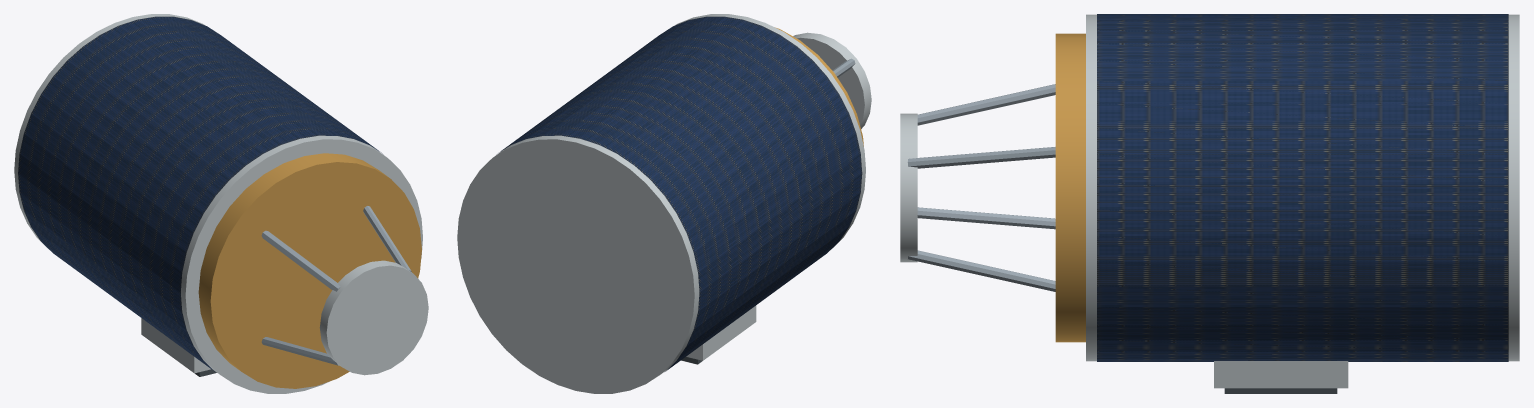
Rendered from meteosat.glb.
3 views of the same model, side by side, from view 1: azimuth 30°, elevation 25°; view 2: azimuth 150°, elevation 25°; view 3: azimuth 270°, elevation 25° (orthographic). The views are drawn at different scales.
Visible parts, largest first — view 1: Body-mounted solar cells, Despun equipment deck, Solar drum core, Antenna tower platform, Antenna tower leg (×3), Radiometer window surround; view 2: Body-mounted solar cells, Solar drum core, Antenna tower platform, Radiometer window surround, Despun equipment deck; view 3: Body-mounted solar cells, Despun equipment deck, Solar drum core, Antenna tower leg (×4), Radiometer window surround, Antenna tower platform, Radiometer viewing port.
Part boxes in pixels (<box>): Body-mounted solar cells: <box>18,16,382,371</box>; Despun equipment deck: <box>198,153,421,388</box>; Solar drum core: <box>14,14,422,393</box>; Antenna tower platform: <box>319,260,428,375</box>; Antenna tower leg (×3): <box>261,206,411,365</box>; Radiometer window surround: <box>141,318,210,373</box>; Body-mounted solar cells: <box>499,16,862,371</box>; Solar drum core: <box>457,14,865,393</box>; Antenna tower platform: <box>793,32,871,128</box>; Radiometer window surround: <box>686,305,756,360</box>; Despun equipment deck: <box>775,27,863,146</box>; Body-mounted solar cells: <box>1097,14,1508,361</box>; Despun equipment deck: <box>1055,33,1085,342</box>; Solar drum core: <box>1086,14,1519,361</box>; Antenna tower leg (×4): <box>907,84,1055,291</box>; Radiometer window surround: <box>1214,361,1348,388</box>; Antenna tower platform: <box>900,113,917,262</box>; Radiometer viewing port: <box>1224,388,1337,393</box>.
Size of the model in its own units: 2.11 by 2.22 by 3.75.
Materials: 5 (1 with a texture image).
